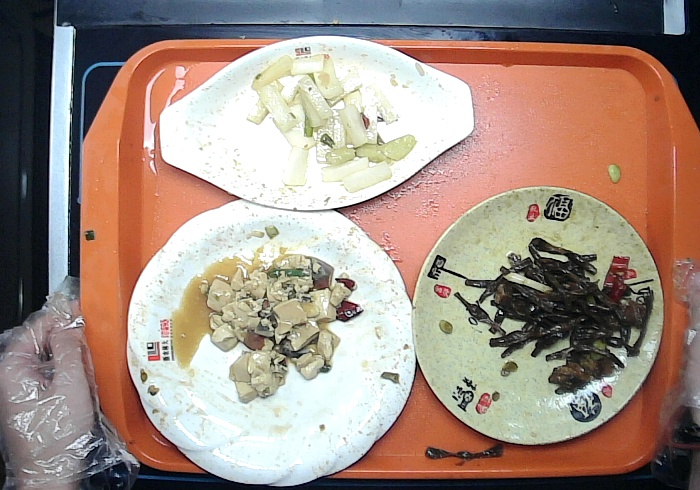NLDX-Bai_Zhe_Yuan_Pan: (120, 186, 420, 490)
NLDX-Fu_Zi_Yuan_Pan: (407, 182, 668, 450)
NLDX-Yu_Pan: (157, 28, 479, 215)
